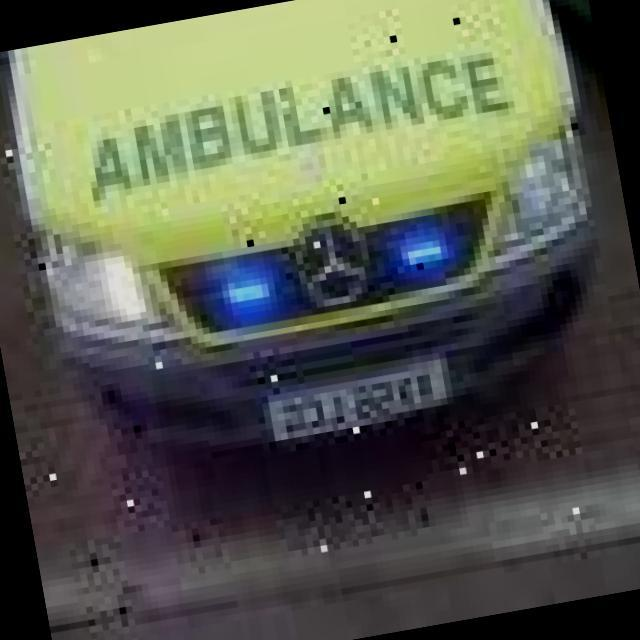emergency-vehicle: (0, 0, 629, 516)
